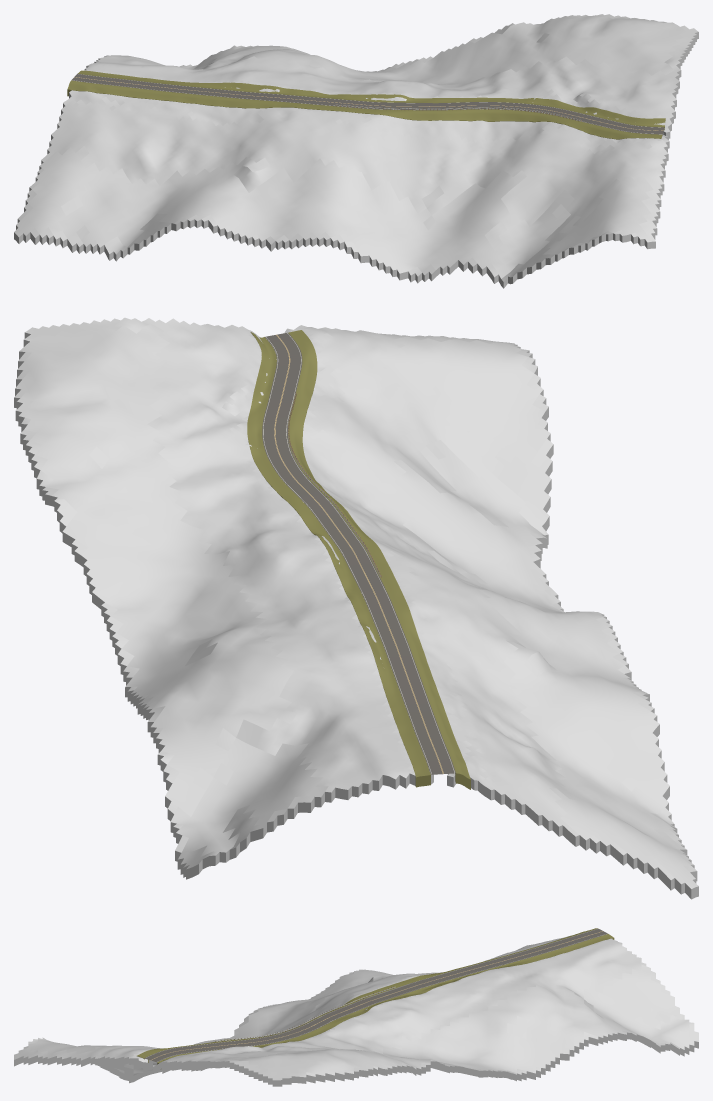
Rendered from conz_163.glb.
3 views of the same model, one above another, from view 1: azimuth 30°, elevation 25°; view 2: azimuth 150°, elevation 25°; view 3: azimuth 270°, elevation 25° (orthographic). The views are drawn at different scales.
Visible parts, largest first — view 1: terrain163, verge163L, road163, verge163R, paint_yellow163, paint_white163; view 2: terrain163, road163, verge163R, verge163L, paint_white163; view 3: terrain163, road163, verge163R, verge163L, paint_yellow163, paint_white163.
Boxes of the visible parts, box(x1,y1,x2,y2) form: terrain163: box(14, 14, 698, 288); verge163L: box(67, 80, 662, 139); road163: box(71, 73, 664, 134); verge163R: box(78, 70, 665, 130); paint_yellow163: box(74, 77, 663, 130); paint_white163: box(72, 74, 661, 134); terrain163: box(14, 317, 698, 899); road163: box(262, 332, 455, 774); verge163R: box(247, 332, 430, 787); verge163L: box(288, 330, 470, 789); paint_white163: box(263, 333, 454, 774); terrain163: box(14, 935, 698, 1086); road163: box(144, 928, 607, 1062); verge163R: box(157, 934, 614, 1064); verge163L: box(137, 928, 597, 1062); paint_yellow163: box(151, 931, 602, 1060); paint_white163: box(146, 928, 604, 1061).
Bounding box in the file's own units: 258 × 70.74 × 286.
